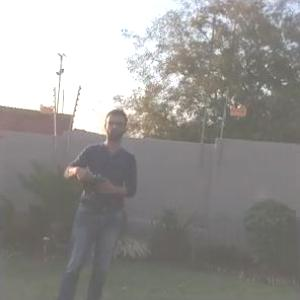follow: (51, 104, 142, 299)
